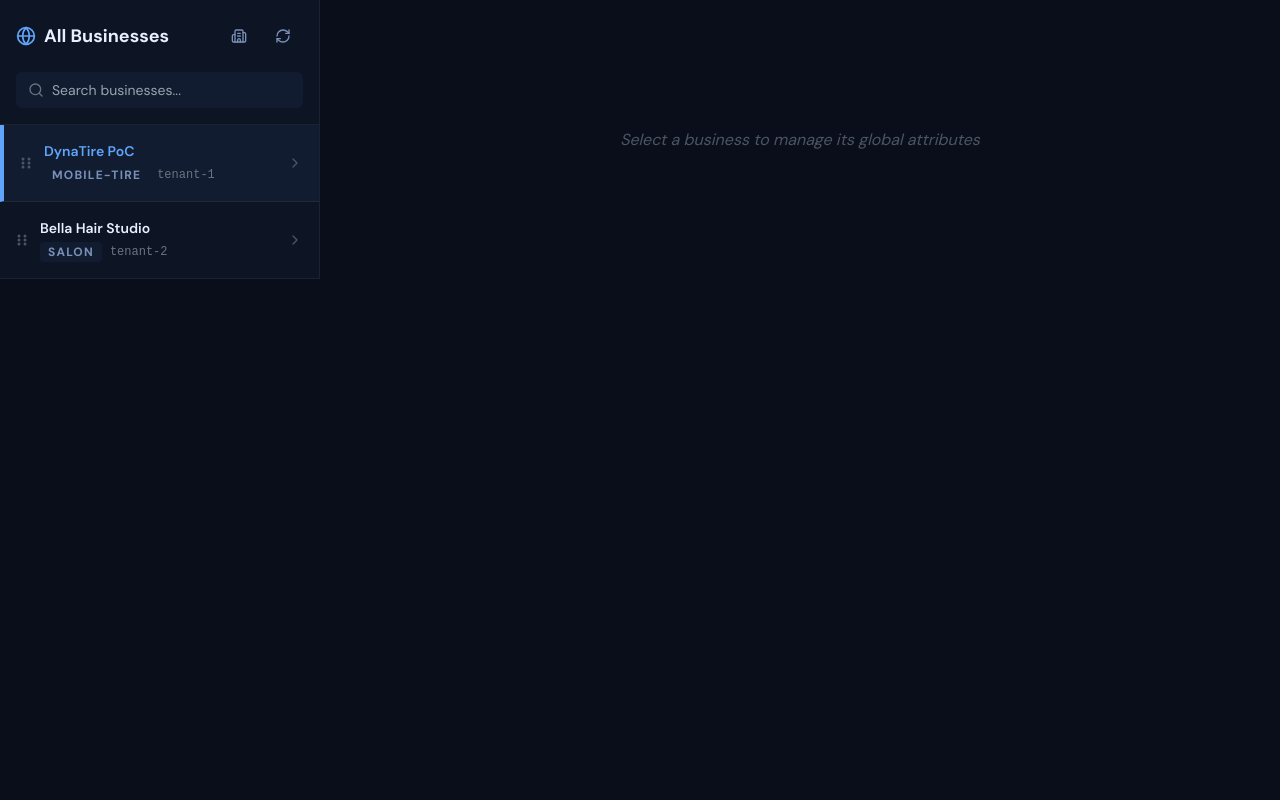
Test: search: filters the business list by name
In the field labelled "Search businesses": (160, 90) [16, 72, 303, 108], type "bella"
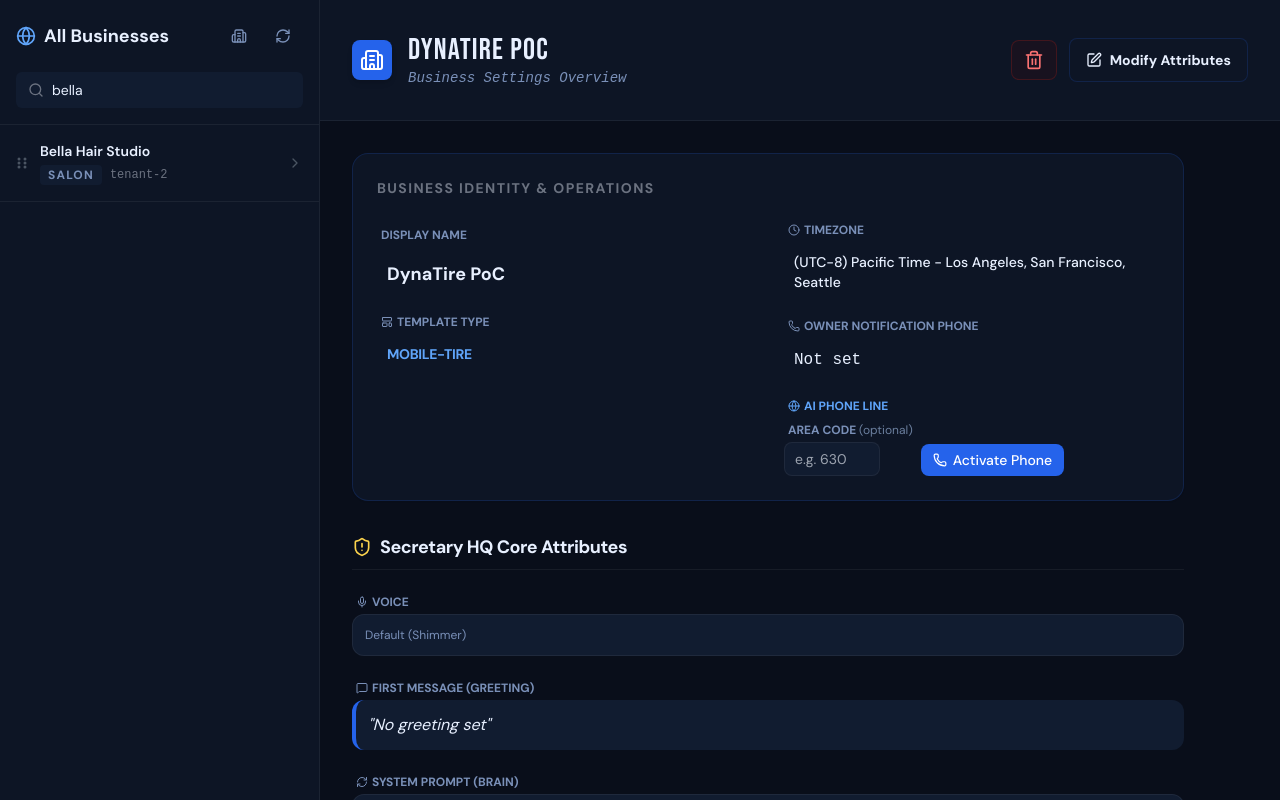
Expected: the button with test id "tenant-card-tenant-2" is shown, [0, 125, 319, 202]
Expected: the button with test id "tenant-card-tenant-1" is gone
